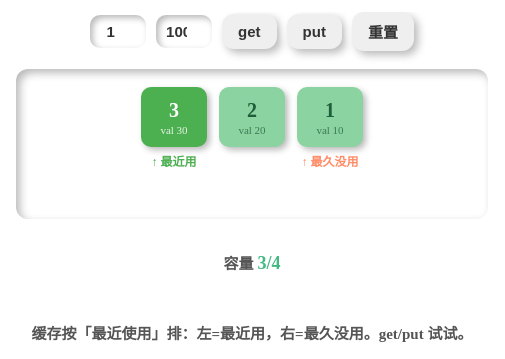
Test: LruViz 缓存互动 › TC-VIZ-LRUVIZ-07 put(2,99) 更新：status 含「更新」
This screenshot has width=505, height=359.
Replace the text in the number field named "键" with "2" at (118, 32), box [90, 15, 146, 48]
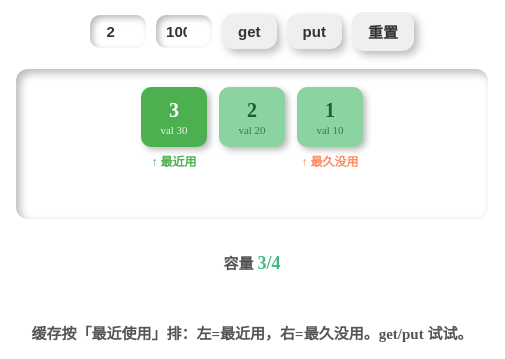
Replace the text in the number field named "值" with "99" at (184, 32), box [156, 15, 212, 48]
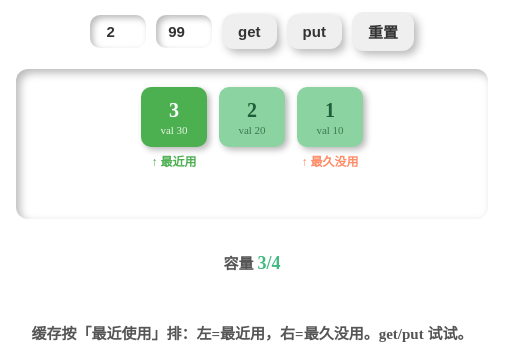
Click the button "put".
click(314, 32)  # box [287, 14, 342, 49]
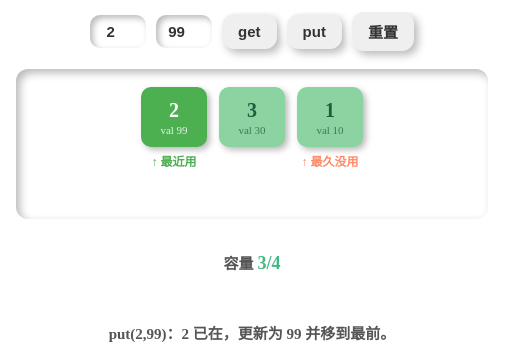
Result: the message with class "status" shows "更新" at [109, 326, 395, 342]
